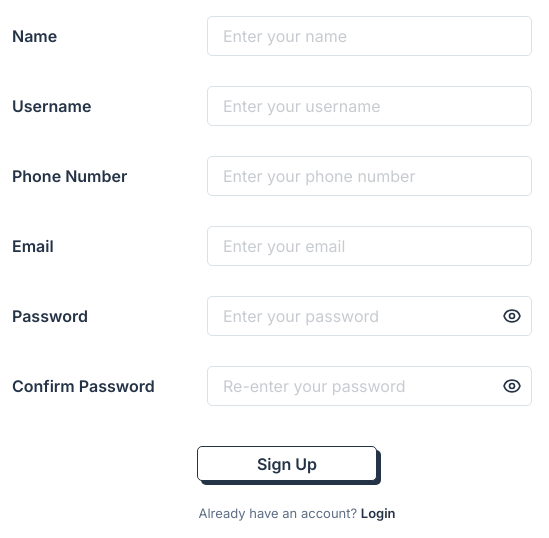
SignUp › should show two password fields
The image size is (549, 538).
Click the password field with placeholder "Enter your password" at (370, 316), box [207,296,532,336]
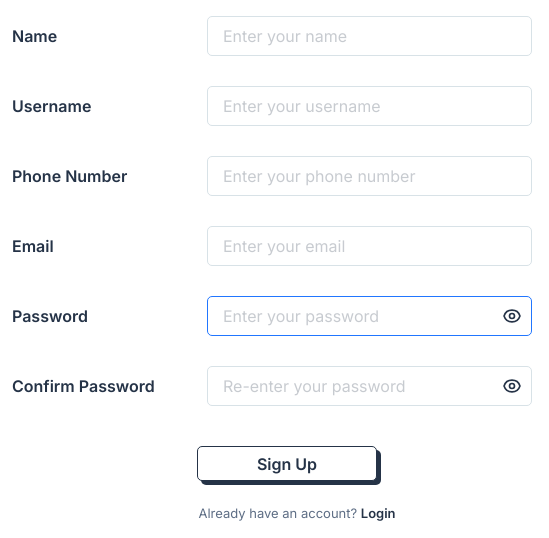
Type keys "John#12345"
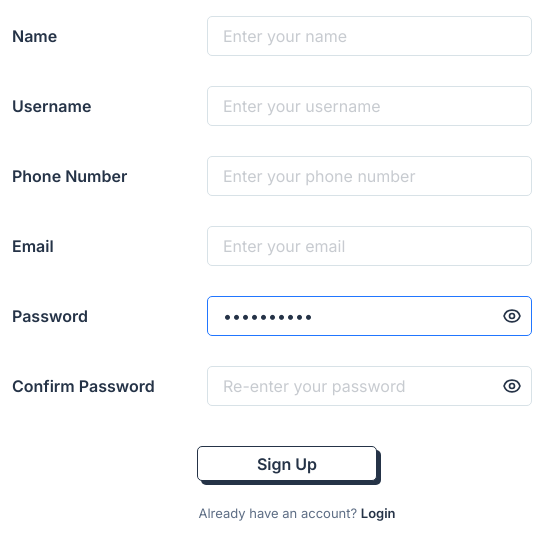
Check: the password field with placeholder "Enter your password" holds "John#12345", box [207,296,532,336]
Click the password field with placeholder "Re-enter your password" at (370, 386), box [207,366,532,406]
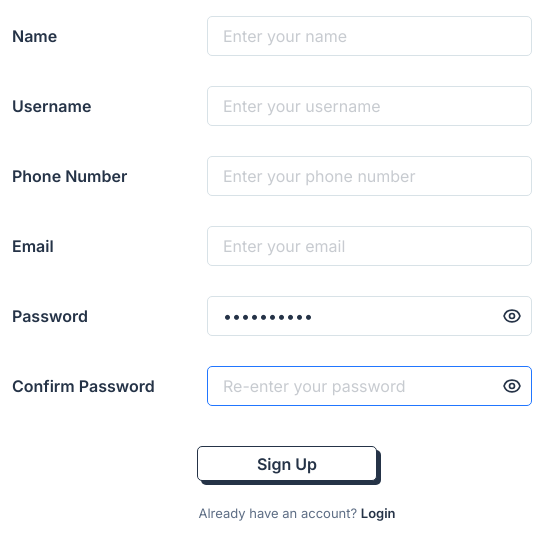
Type keys "John#12345"
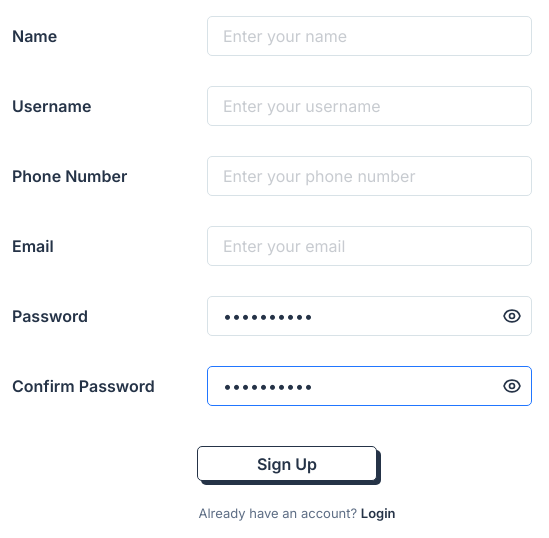
Check: the password field with placeholder "Re-enter your password" holds "John#12345", box [207,366,532,406]
